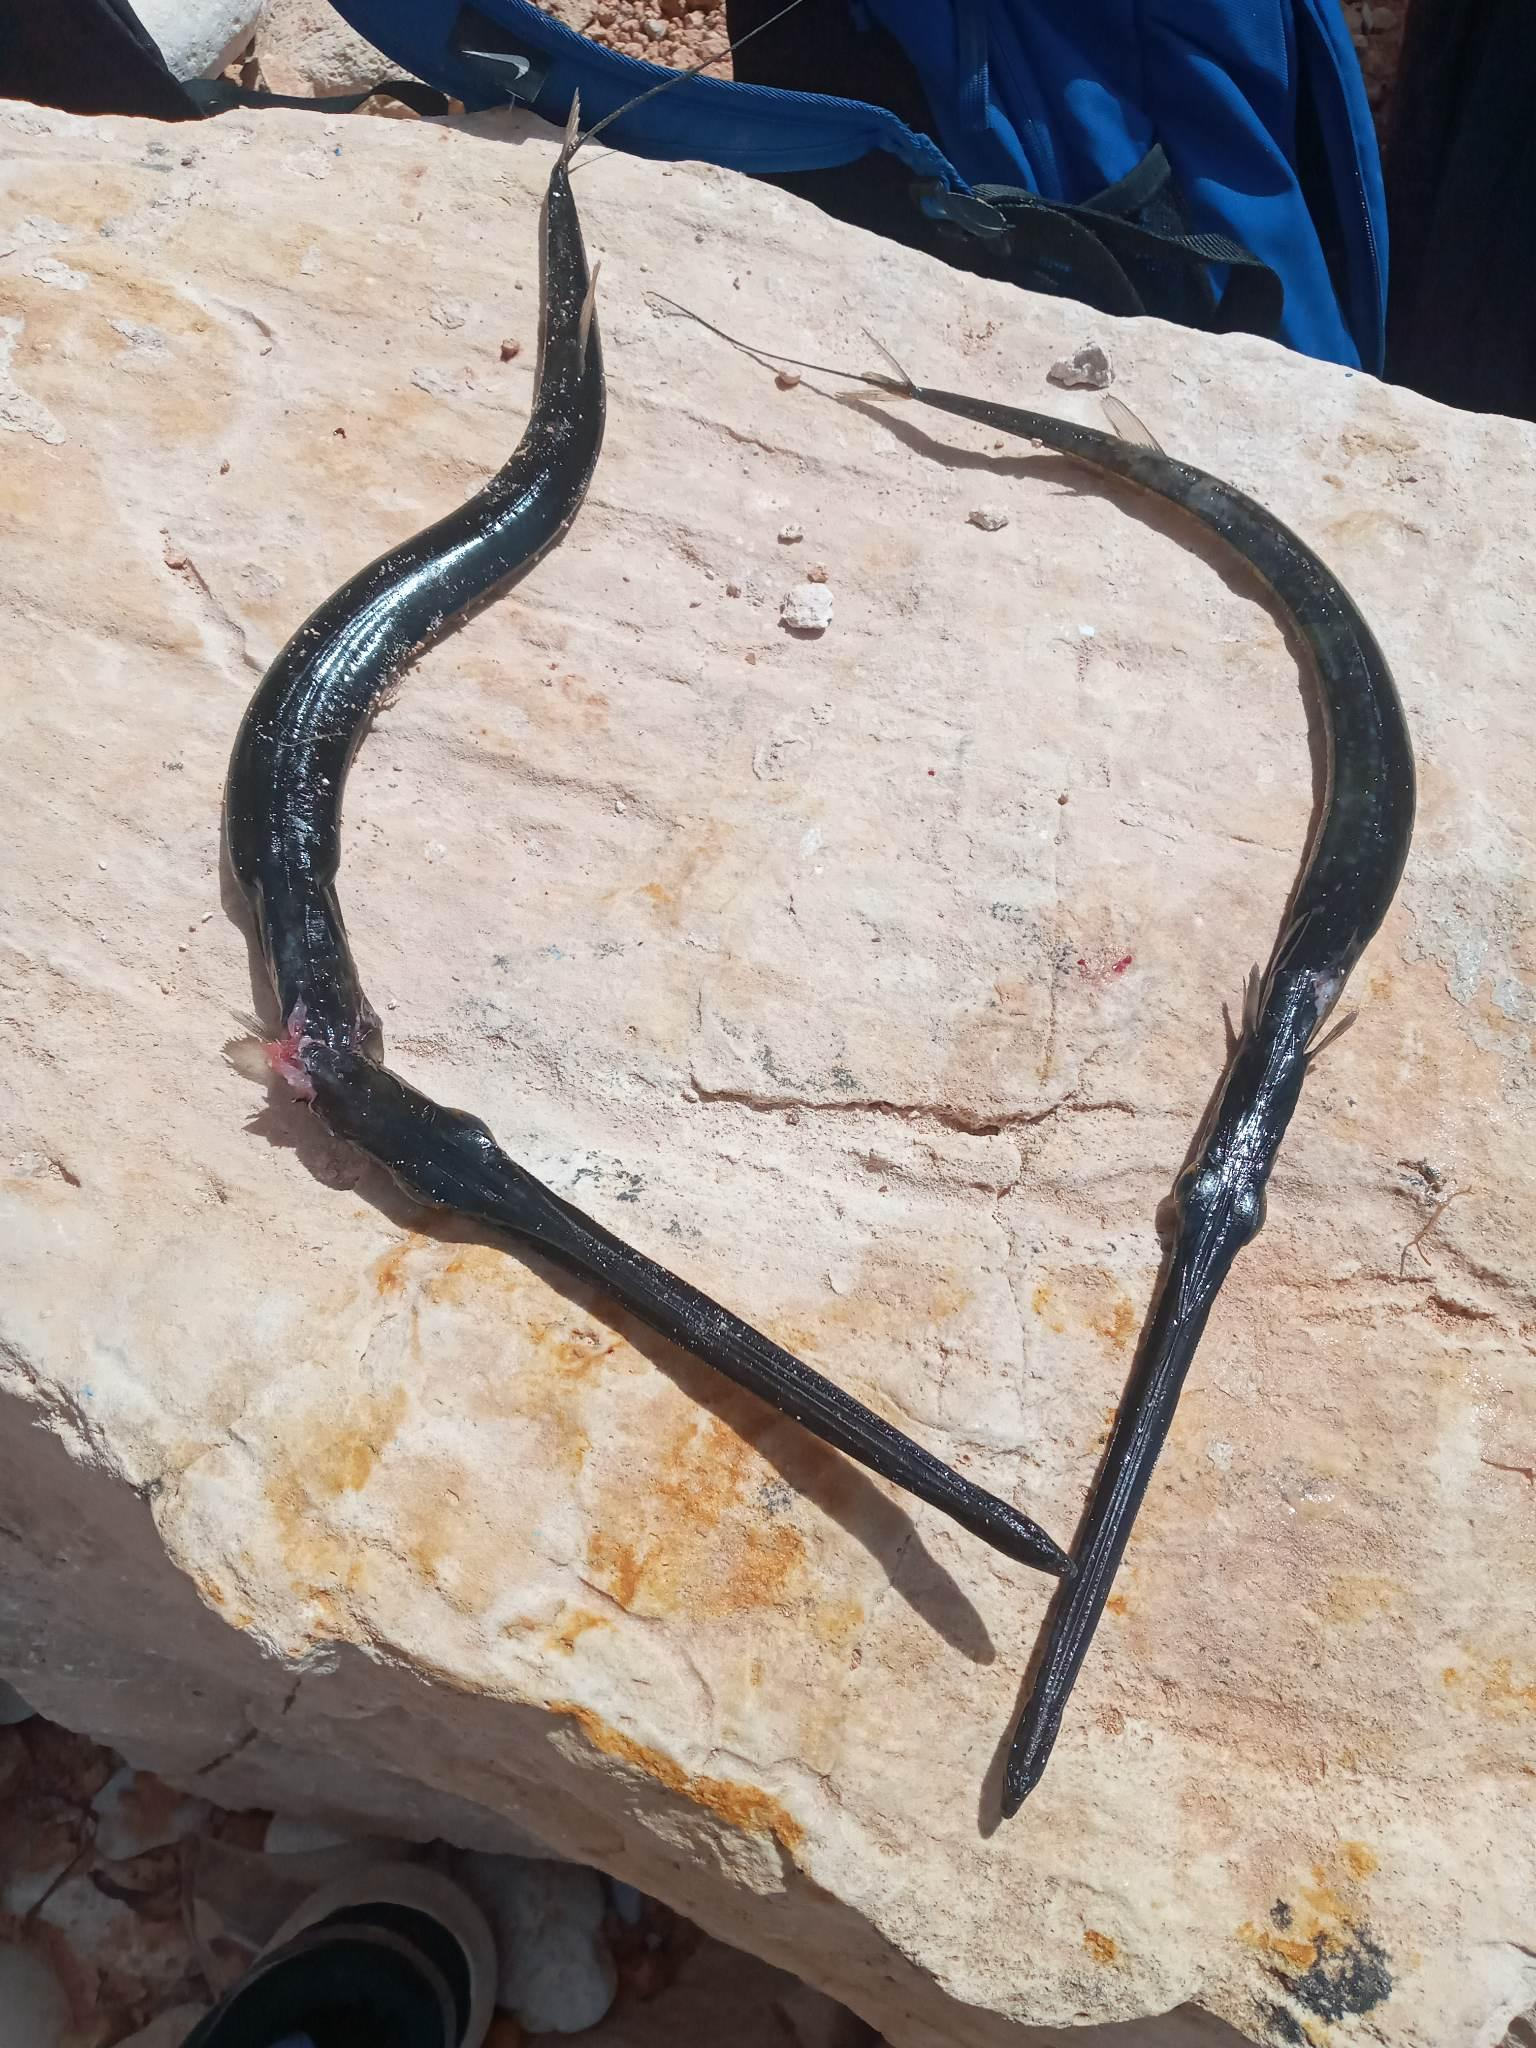Fistularia commersonii: (87, 69, 1060, 1624), (791, 247, 1376, 1824)
